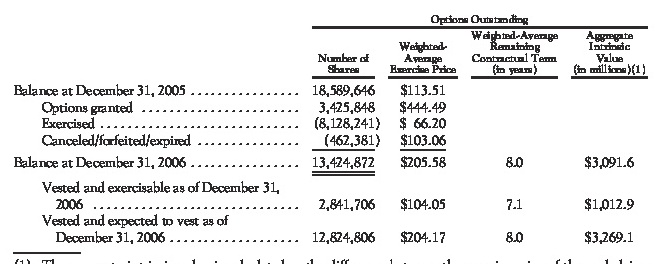table: (0, 0, 663, 264)
